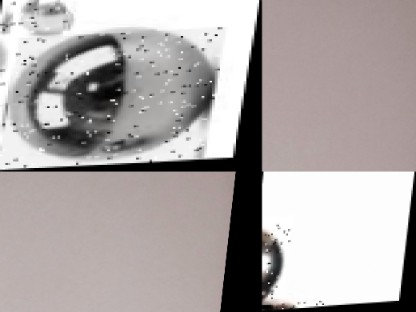ironball: (0, 29, 225, 170), (262, 215, 293, 306), (2, 0, 70, 39), (0, 102, 27, 171), (0, 14, 18, 104), (262, 301, 330, 311)
